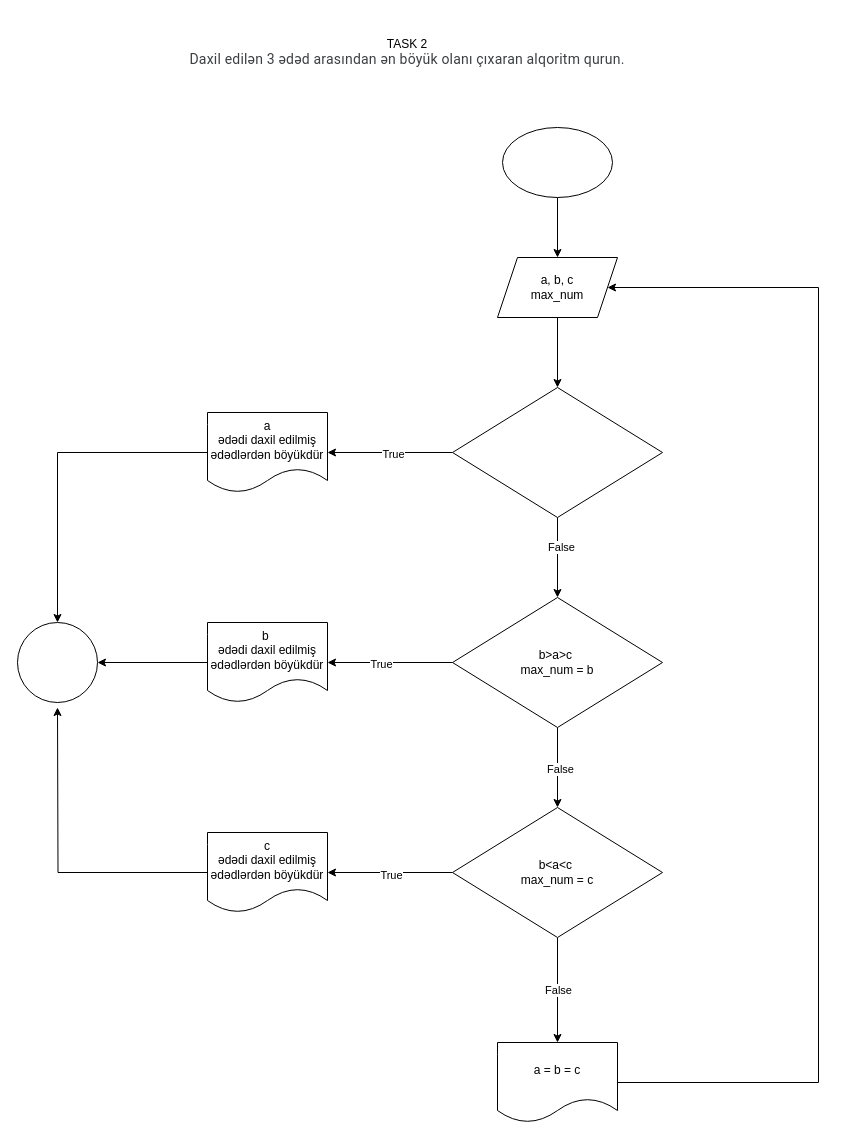
The diagram is 844 pixels wide and 1140 high, and some of its shapes have lost their labels. Here are the shapes that lost their labels. From the top down, the centre of each, then its label:
At (x=557, y=162): "Start".
At (x=557, y=452): "a>b>c max_num = a".
At (x=57, y=662): "End".
